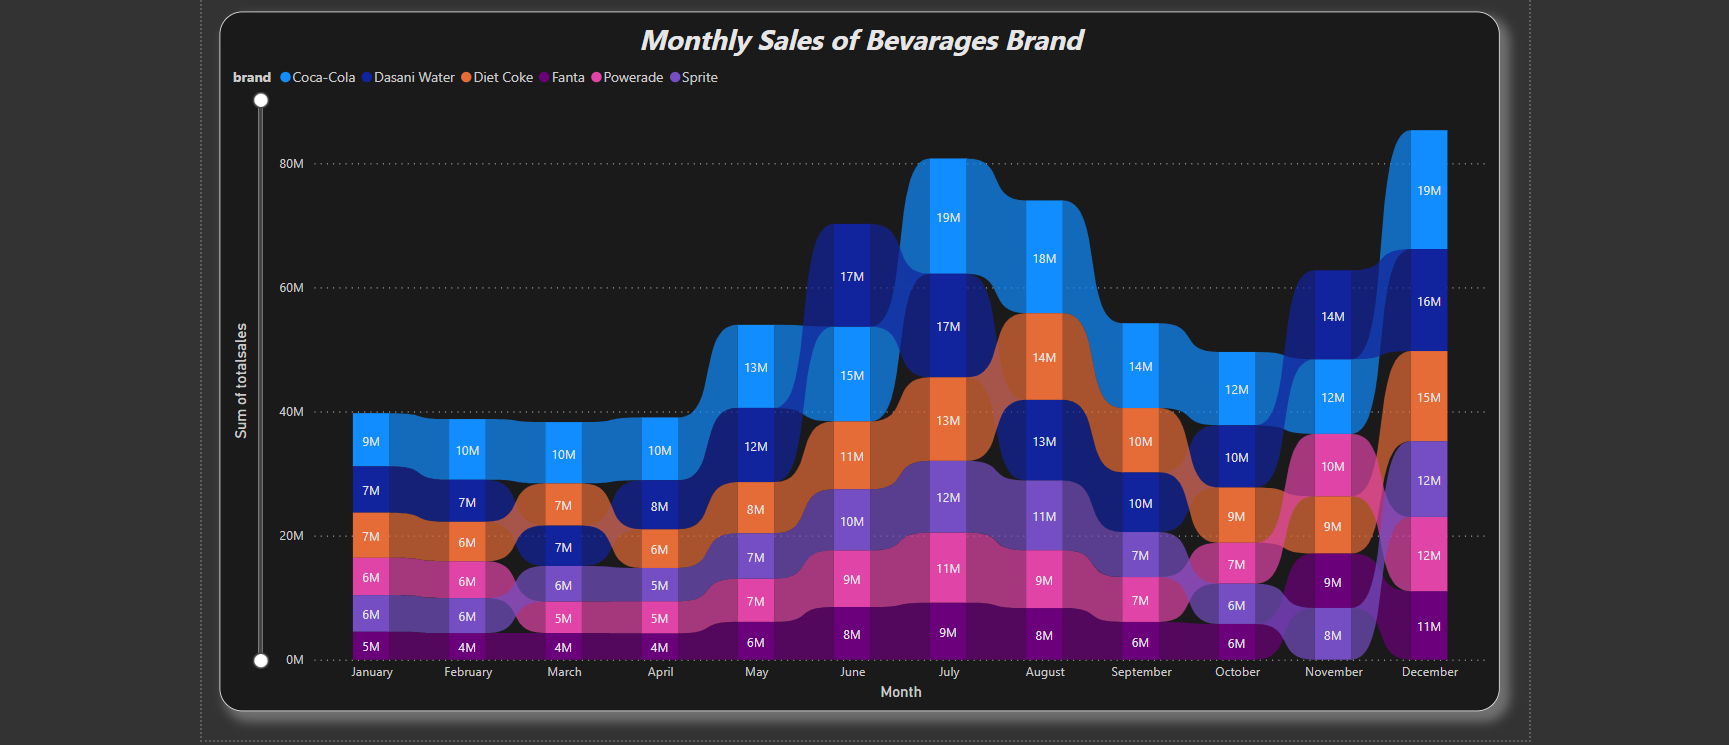

This screenshot's page, from the dashboard's own definition file:
{"tool":"powerbi","page":{"name":"Page 3","canvas":[1280,720],"ordinal":2},"visuals":[{"type":"ribbonChart","title":"Monthly Sales of Bevarages Brand","fields":{"Y":["Sum(bv india.totalsales)"],"Category":["bv india.Date.Variation.Date Hierarchy.Month"],"Series":["bv india.brand"]},"box":[16.5,16.5,1235,675.1],"z":0}]}

Visuals, with their boxes on the page's 1280x720 design canvas (x1, y1, x2, y2). These are canvas units, not pixel positions in the 1729x745 screenshot, which may show the page scaled, cropped or inside an application window:
"Monthly Sales of Bevarages Brand" ribbonChart: 16:16:1252:692
